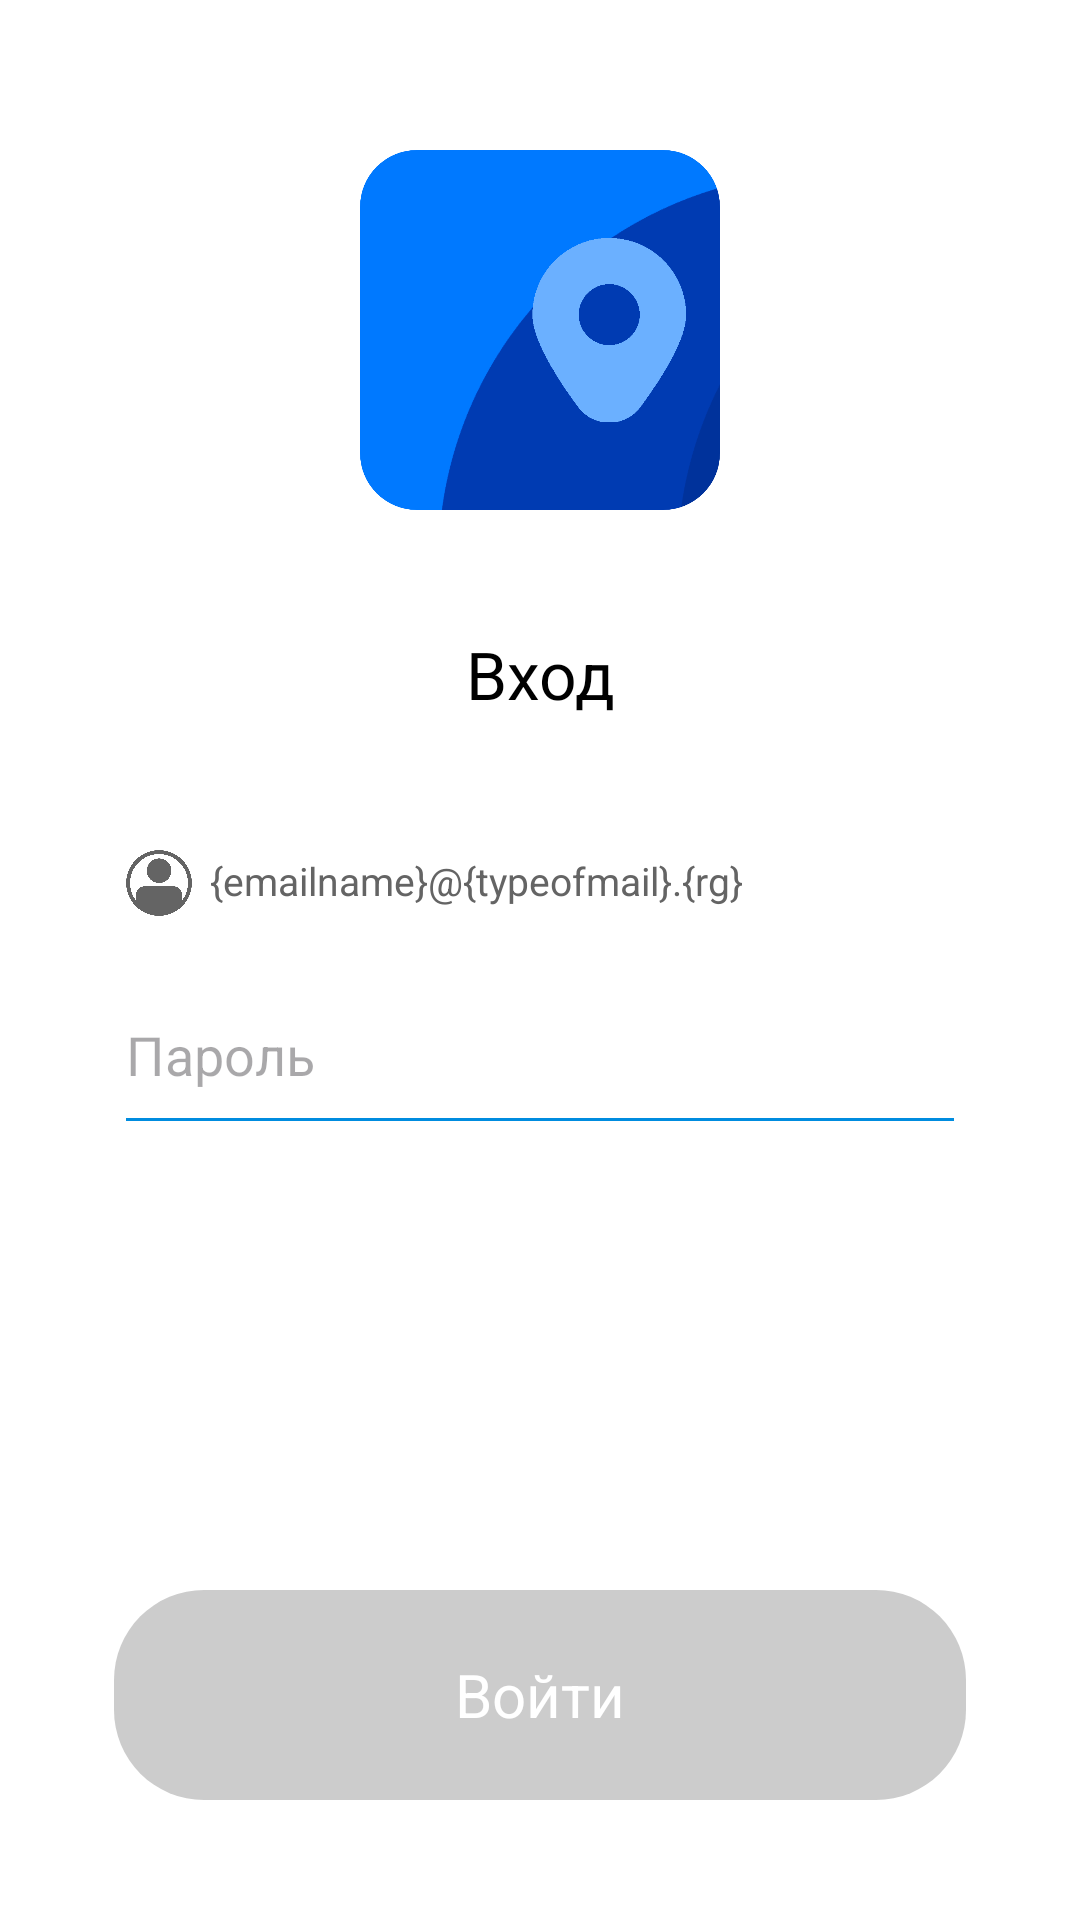

Named icons in this screenshot (1080px×1920px) and their centers, (x,y):
userimage: (159,883)
